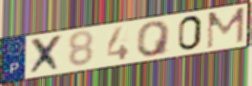0: (177, 14, 204, 52)
4: (106, 25, 130, 63)
8: (66, 30, 98, 69)
M: (205, 5, 246, 50)
Q: (135, 19, 173, 58)
X: (28, 33, 65, 77)
